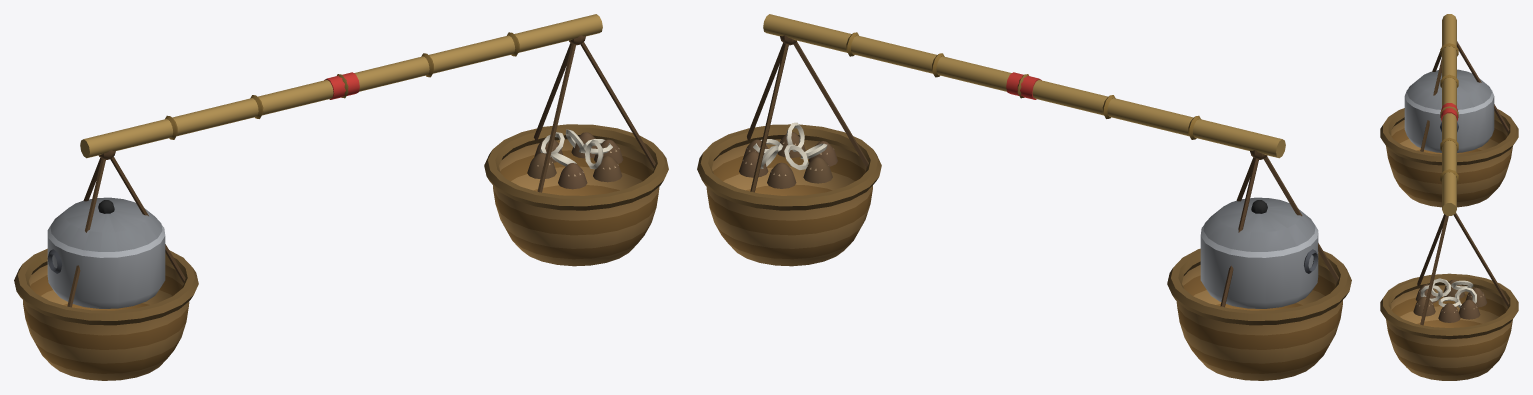
The model's file is pp-pole-bunoc.glb.
The picture shows the model from 3 angles, left to right: view 1: azimuth 30°, elevation 25°; view 2: azimuth 150°, elevation 25°; view 3: azimuth 270°, elevation 25°; orthographic projection. The views are drawn at different scales.
Size of the model in its own units: 2.95 by 1 by 0.7424.
